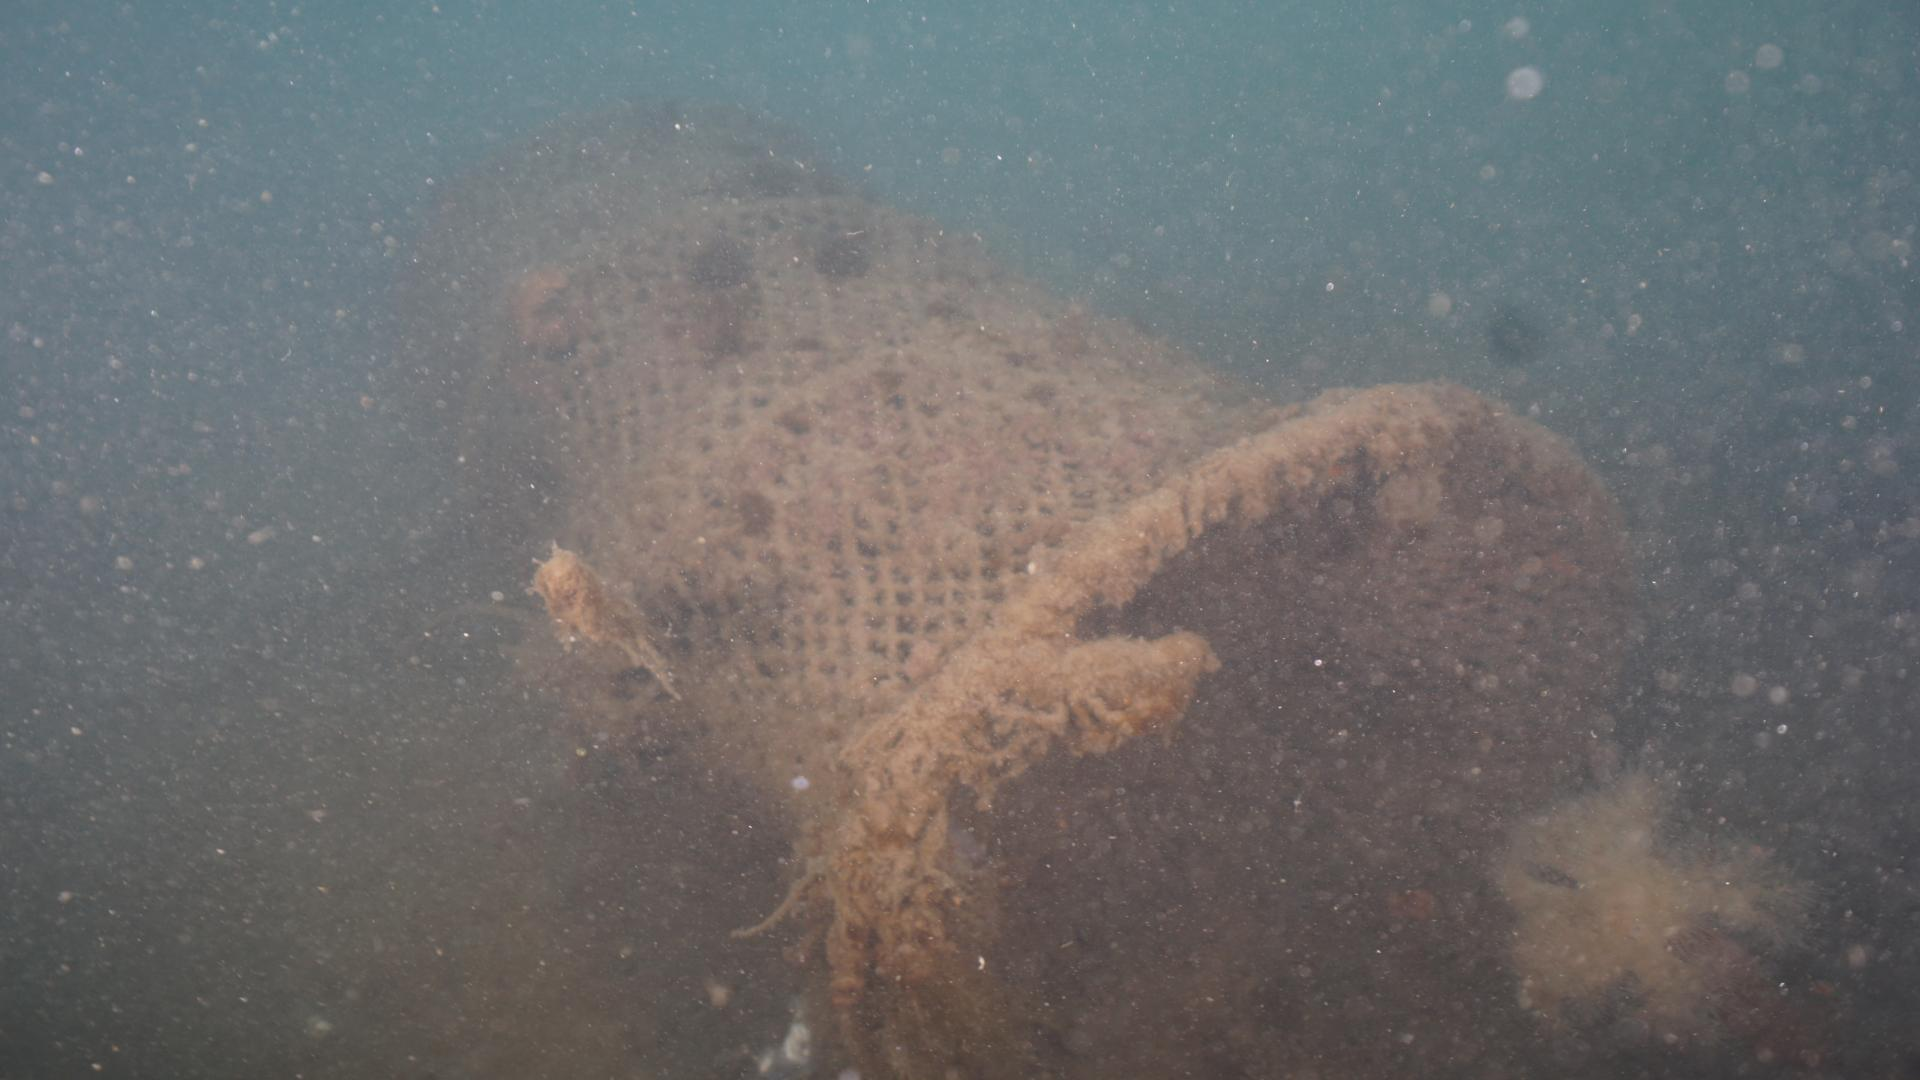spring fish trap: (451, 102, 1652, 1080)
